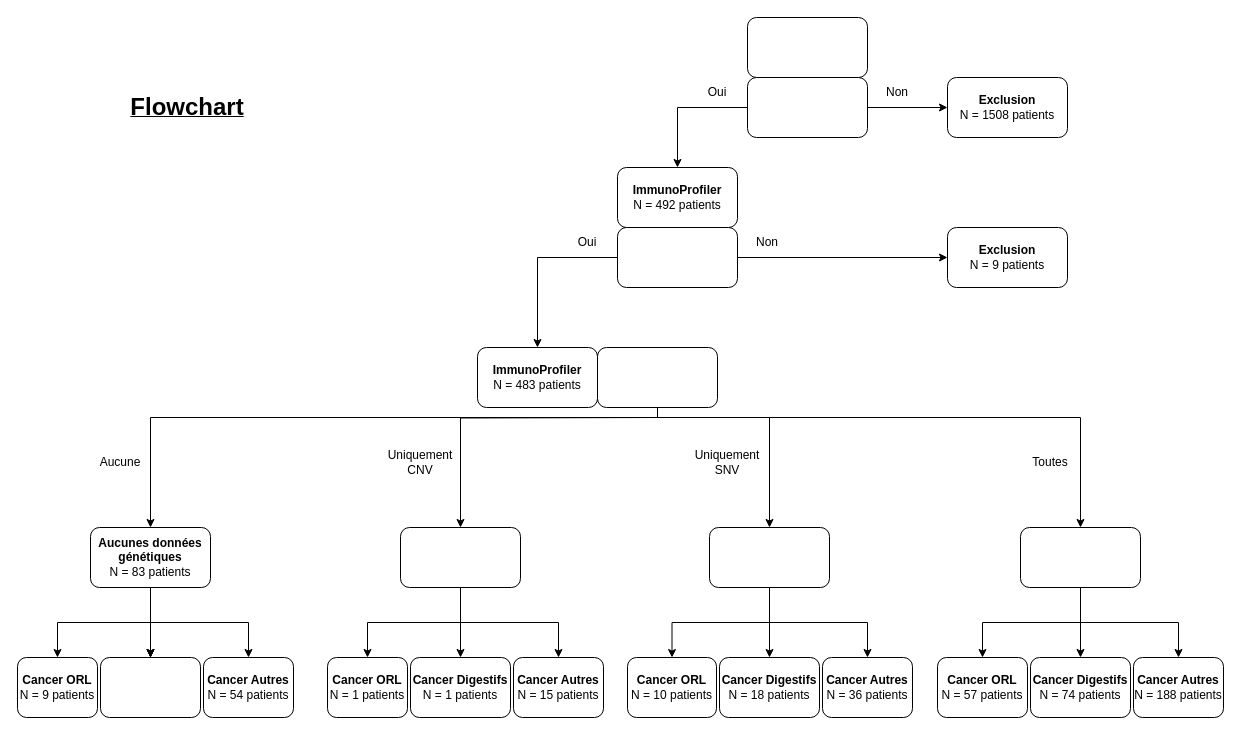
Some shapes in this 1241 by 735 pixel diagram are drawn without their labels. The centre of each missing label's shape, as x and y in pixels:
Cancer Digestifs N = 20 patients: the point at 150,687
Données génétiques disponibles ?: the point at 657,377
Données immunologiques disponibles ?: the point at 807,107
Localisation tumorale disponible ?: the point at 677,257
Profiler N = 10000 patients: the point at 807,47
Toutes données génétiques N = 319 patients: the point at 1080,557
Uniquement données CNV N = 17 patients: the point at 460,557
Uniquement données SNV N = 64 patients: the point at 769,557
